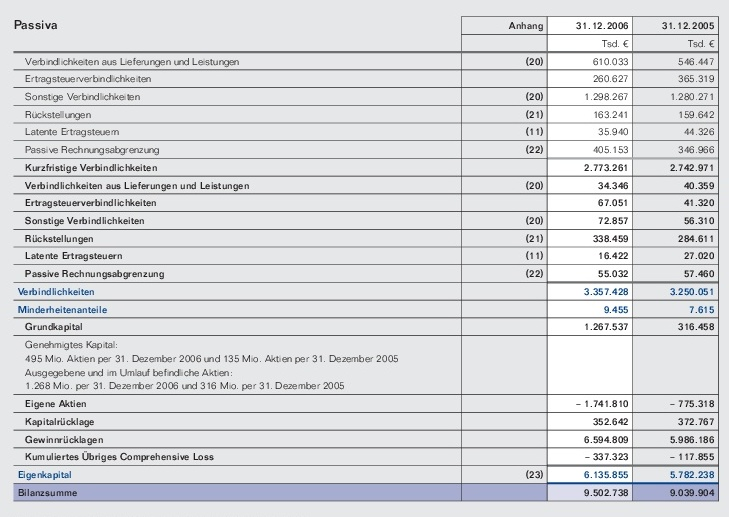table: (0, 0, 729, 517)
